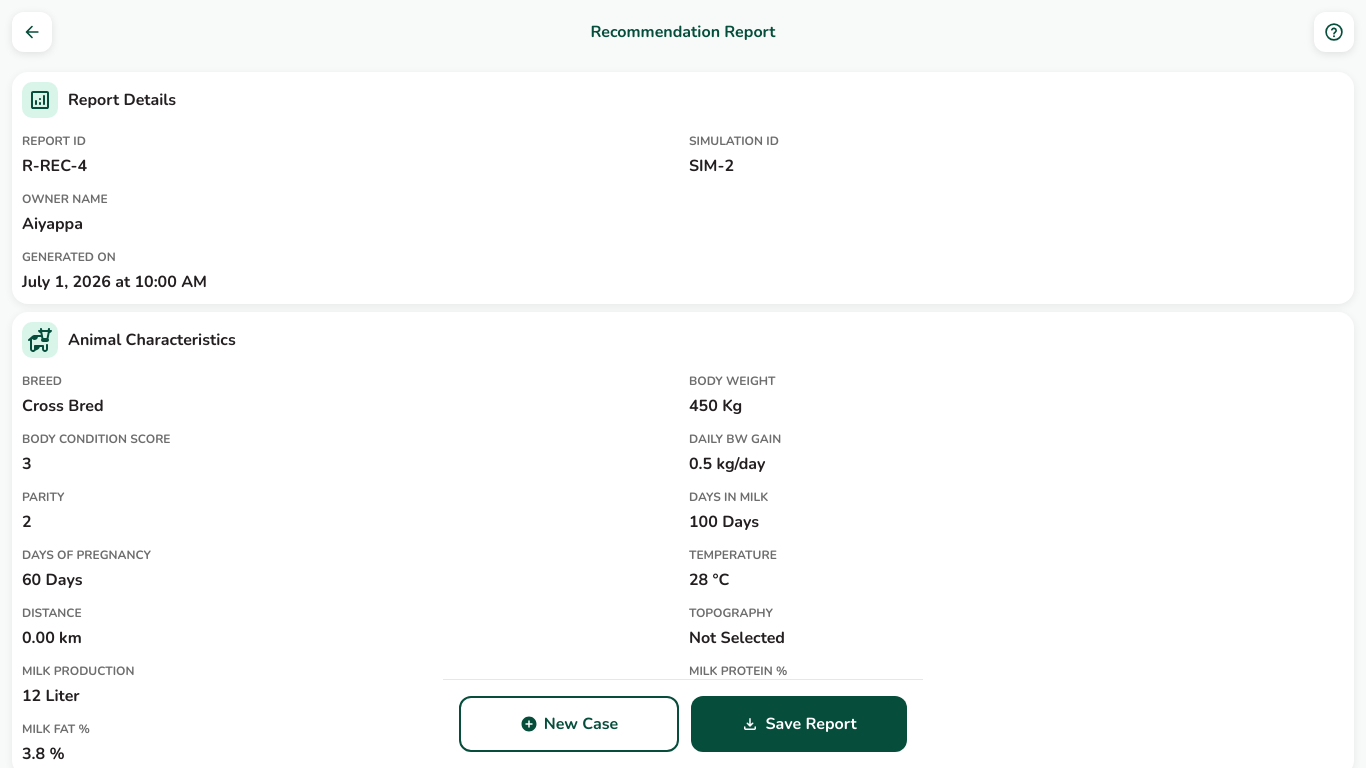
Test: Report — "Save Report" + "View PDF" › success:true + error_message (PDF-pending) shows an info toast, not an error — and does NOT early-return
The width and height of the screenshot is (1366, 768).
Click the button "Save Report": {"x": 799, "y": 724} x1=691 y1=696 x2=907 y2=752
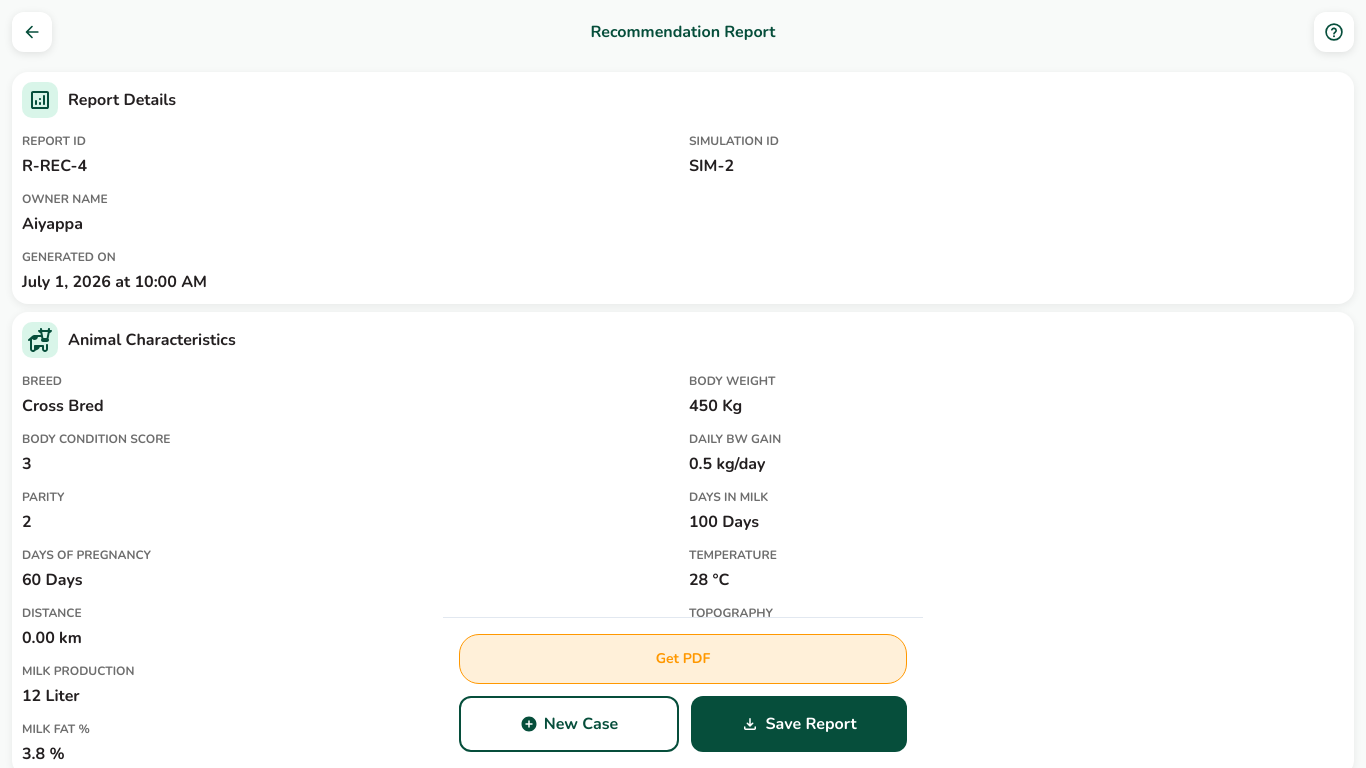
Expected: the button "Get PDF" is shown, x1=459 y1=634 x2=907 y2=684
